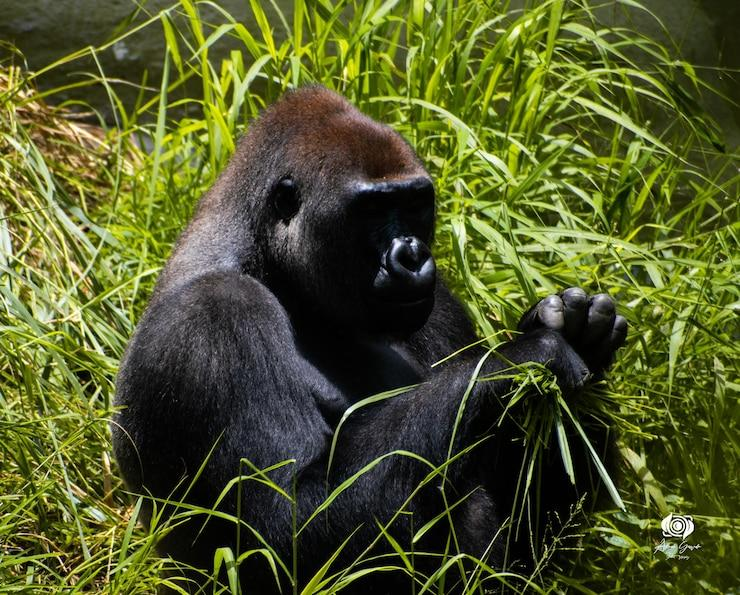gorille_Autres: (23, 46, 696, 595)
